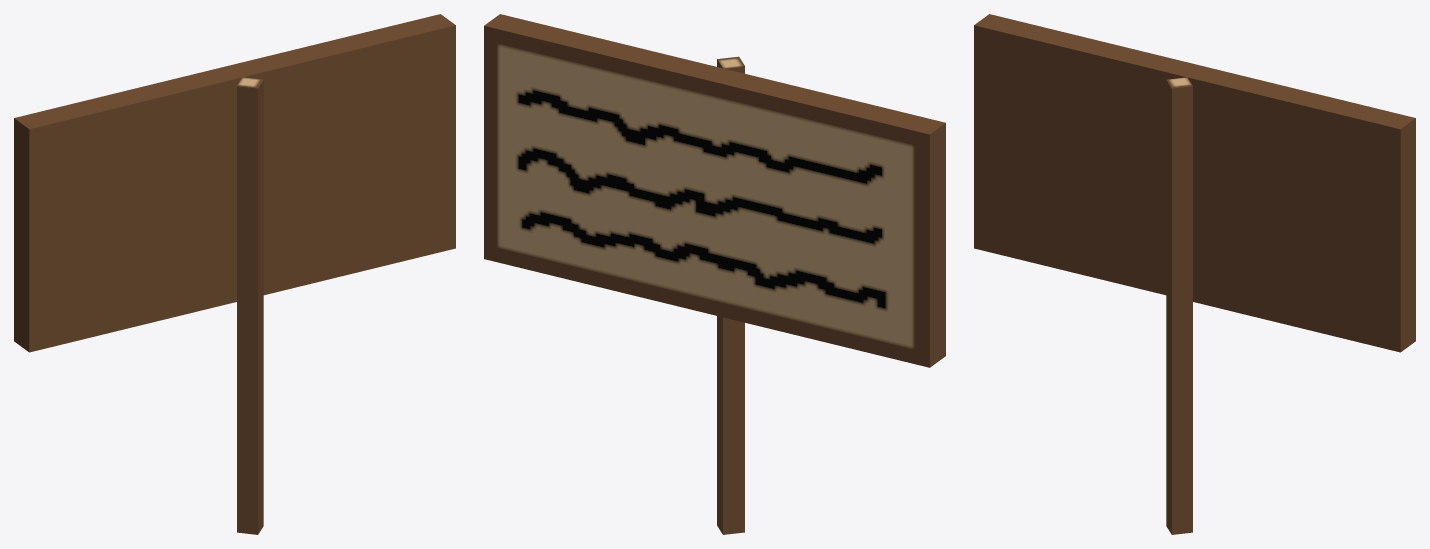
The model's file is Sign.fbx.
3 renders of one model, left to right at view 1: azimuth 30°, elevation 25°; view 2: azimuth 150°, elevation 25°; view 3: azimuth 330°, elevation 25°, orthographic. The views are drawn at different scales.
Parts seen in each view (by area): view 1: Mesh; view 2: Mesh; view 3: Mesh.
Part boxes in pixels (left/top/right/bottom): Mesh: left=14, top=14, right=455, bottom=534; Mesh: left=484, top=14, right=945, bottom=534; Mesh: left=974, top=14, right=1415, bottom=534.
Bounding box in the file's own units: 2 × 0.25 × 2.
1 material, 1 textured.
